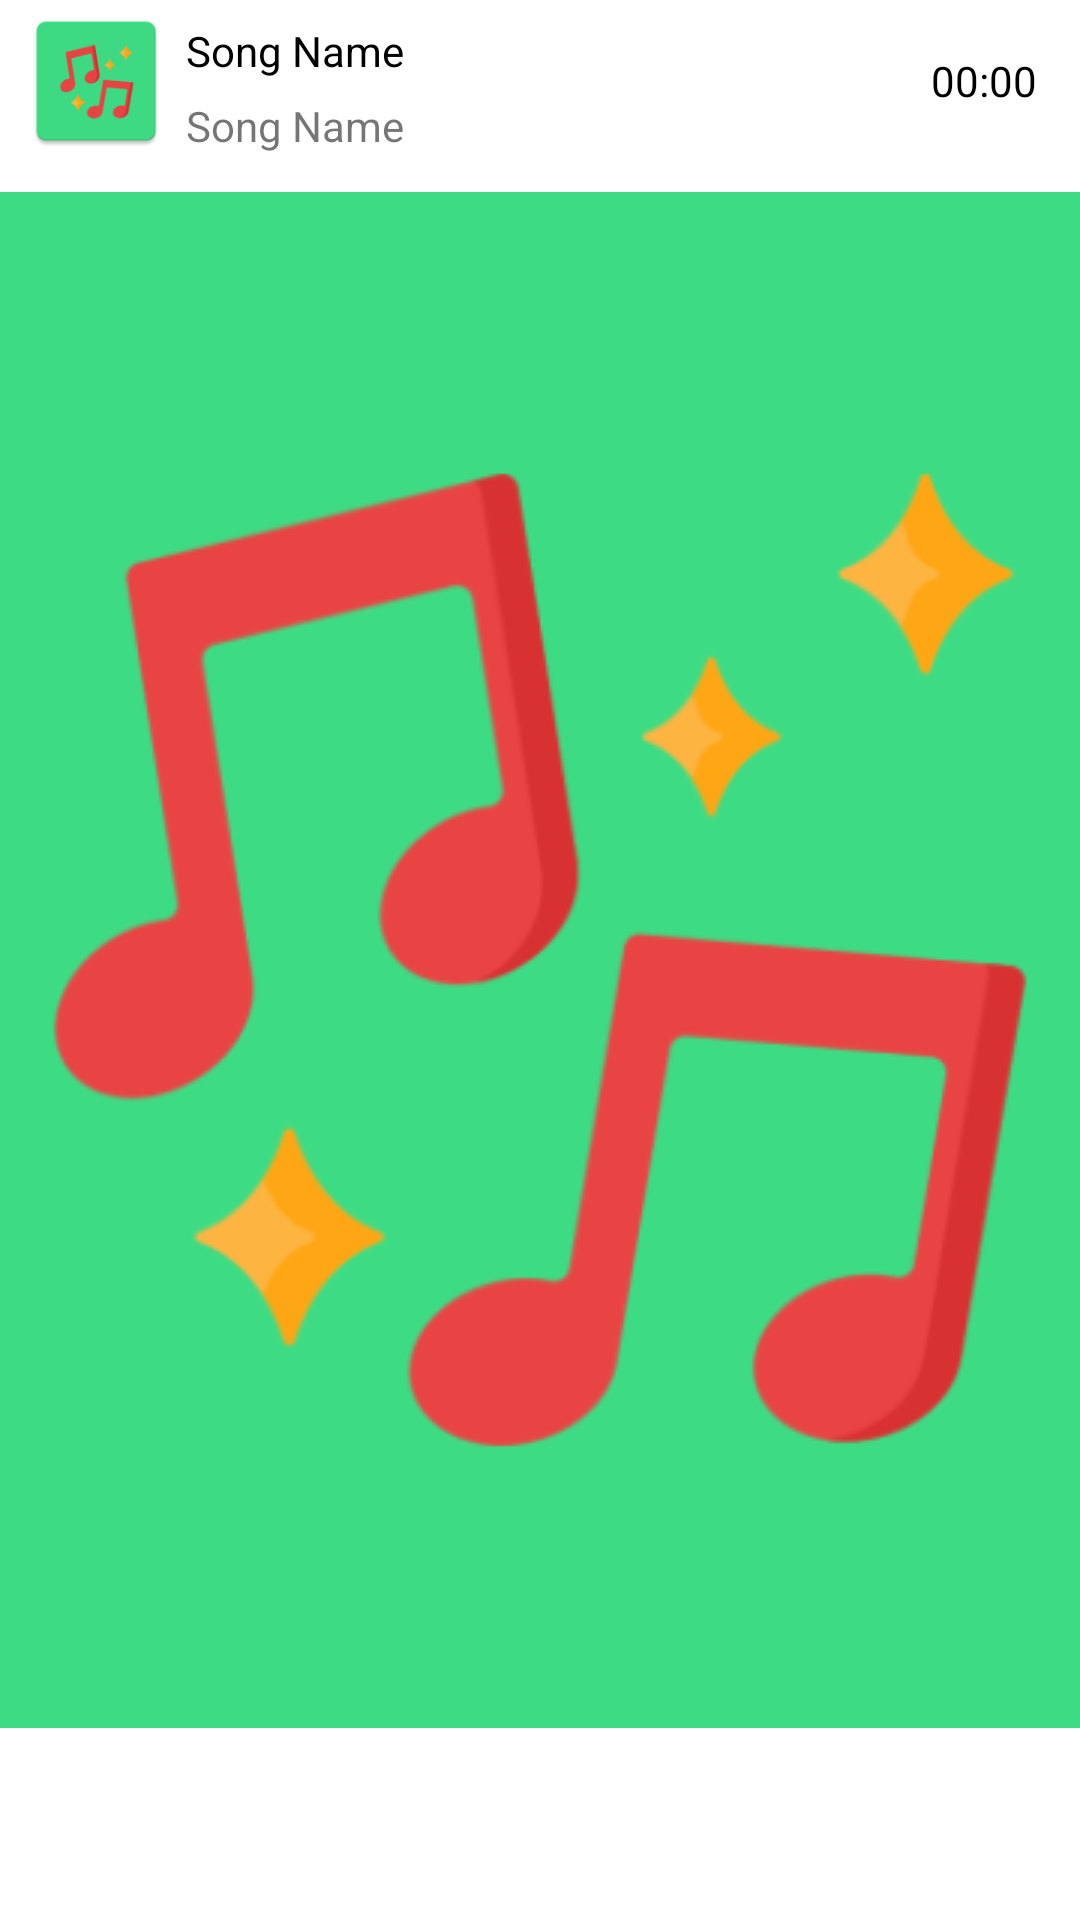

Screen size 1080x1920. Icon name, then its box in pixels as (x1, y1, x2, y2):
music player: (36, 21, 157, 144)
